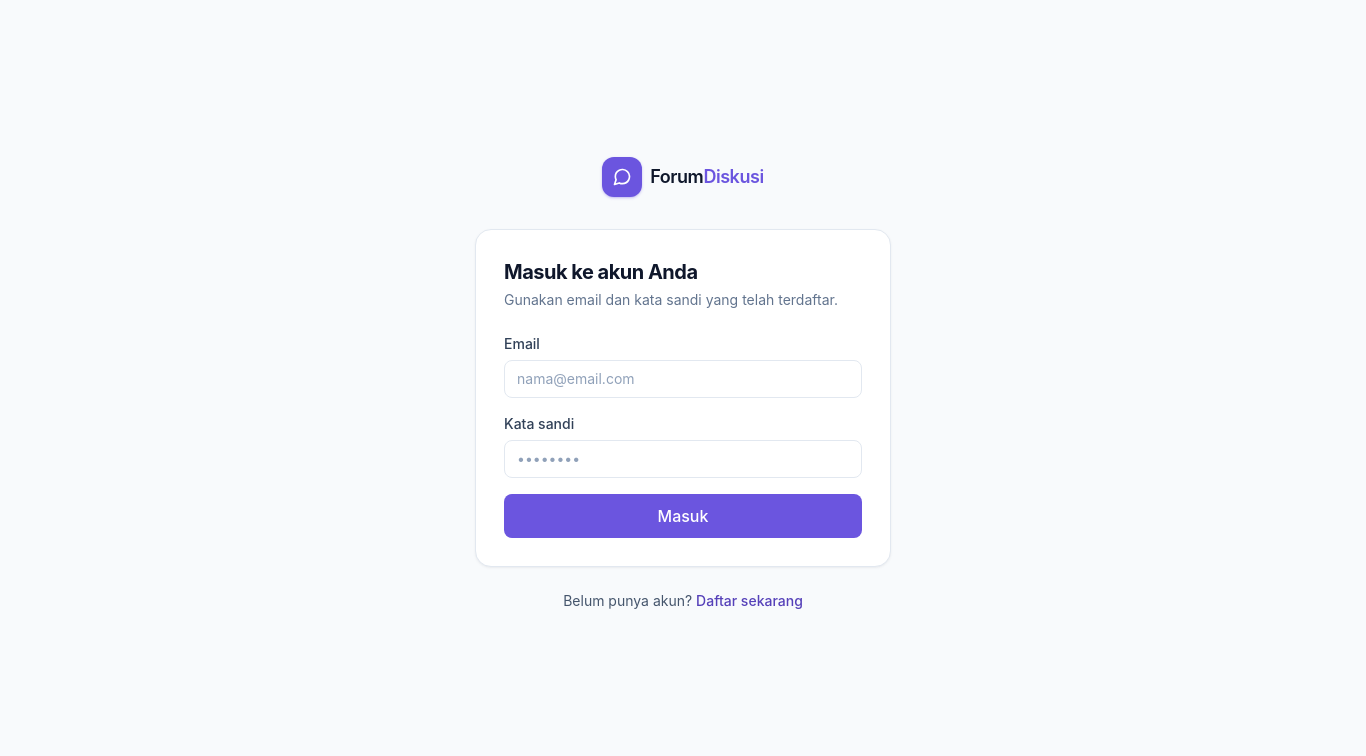
Test: Alur login aplikasi › harus mengeluarkan pengguna dan menghapus token ketika menekan Keluar
Type "khairil@cypress.test" into the field with id "email". click: (683, 379)
box: [504,360,862,398]
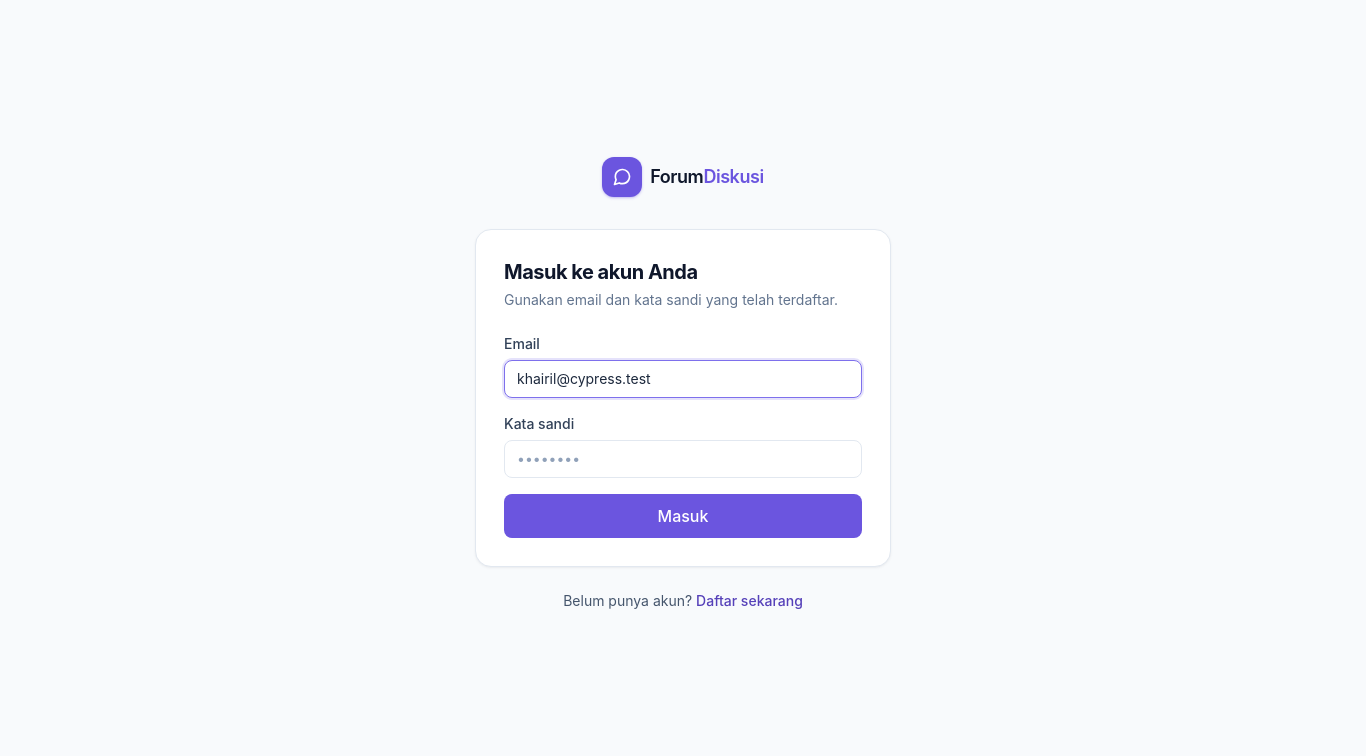
Type "rahasia123" into the password field labelled "Kata sandi". click: (683, 459)
box: [504,440,862,478]
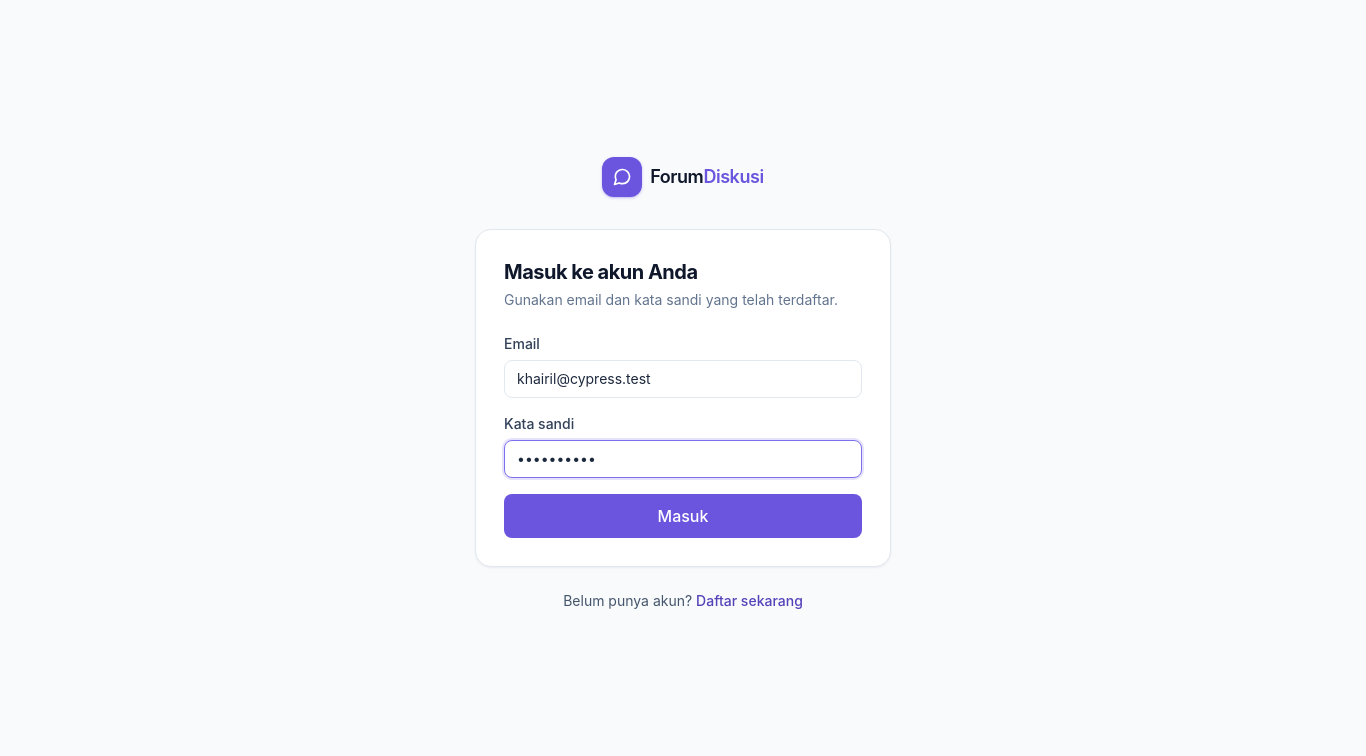
Click the submit button. click: (683, 516)
box: [504,494,862,538]
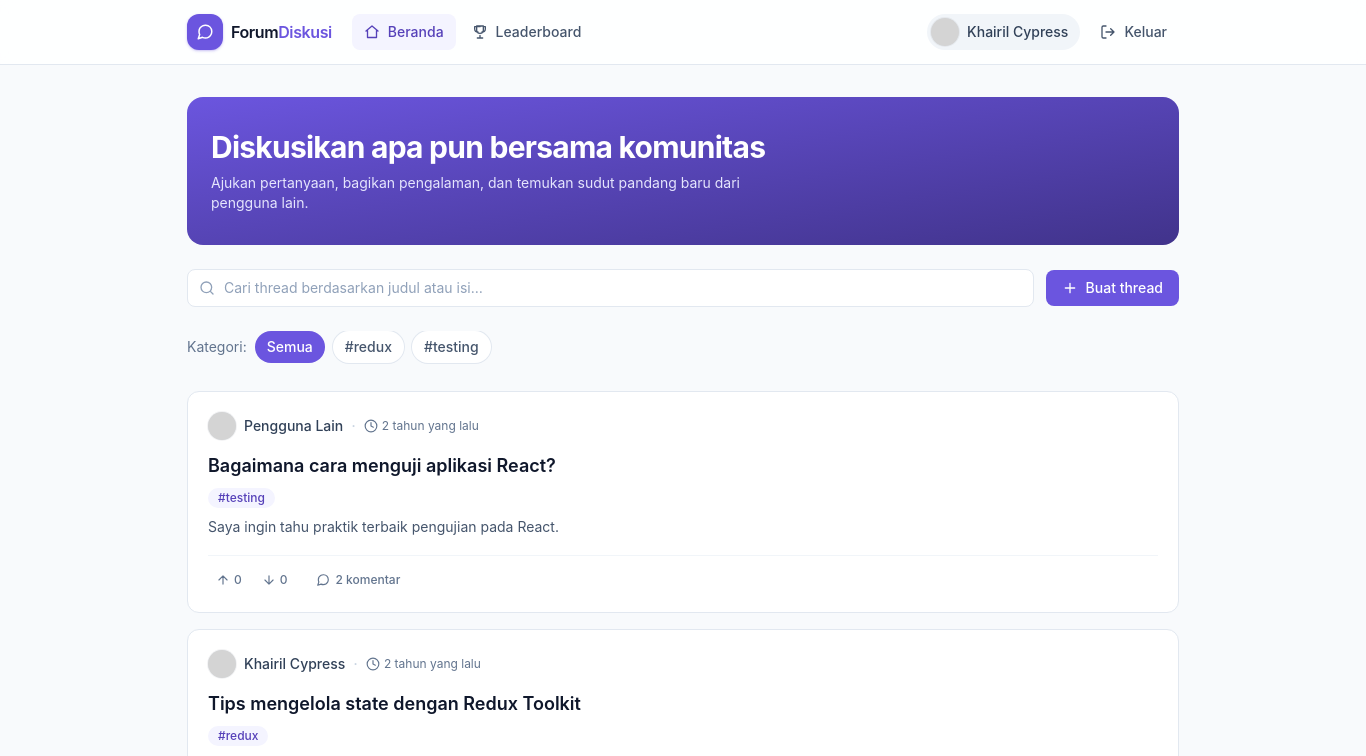
Click the button with aria-label "Keluar". click: (1134, 32)
box: [1088,16,1179,48]
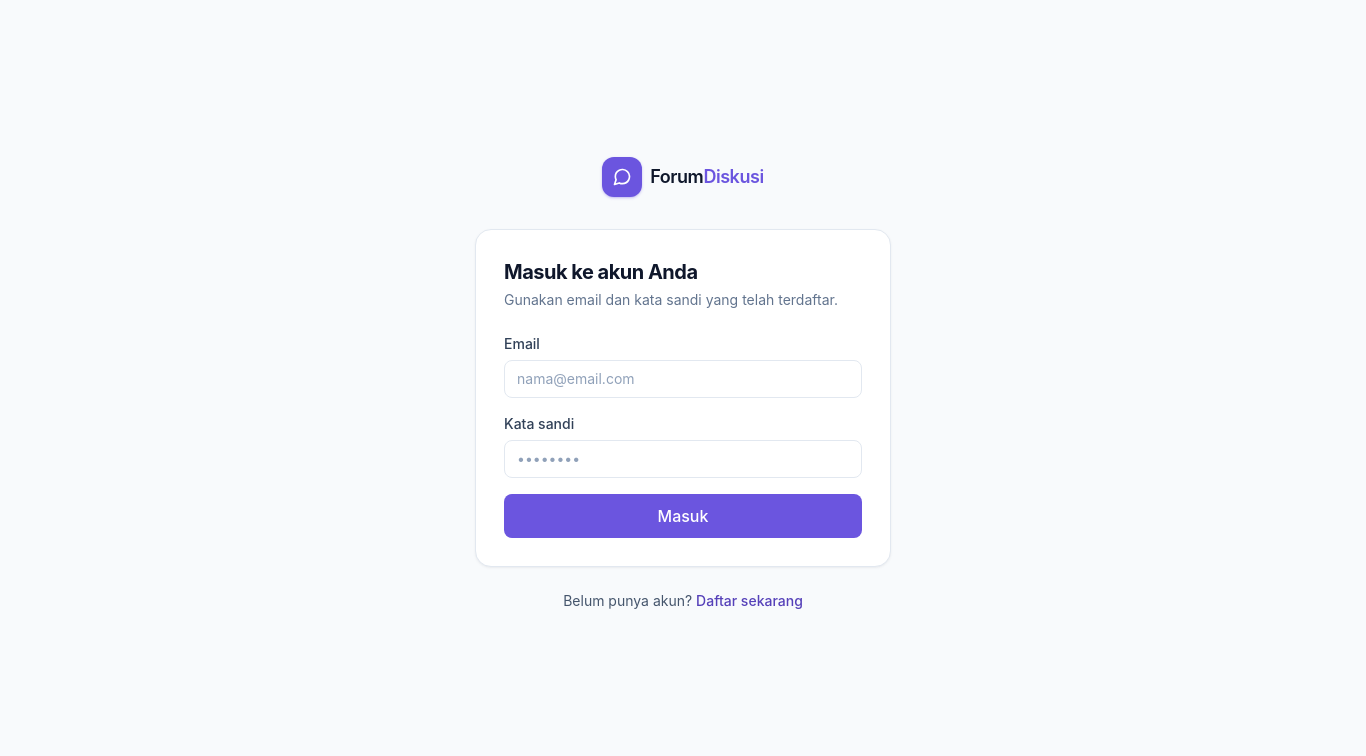
Result: the heading "Masuk ke akun Anda" is shown at [504,260,698,284]
